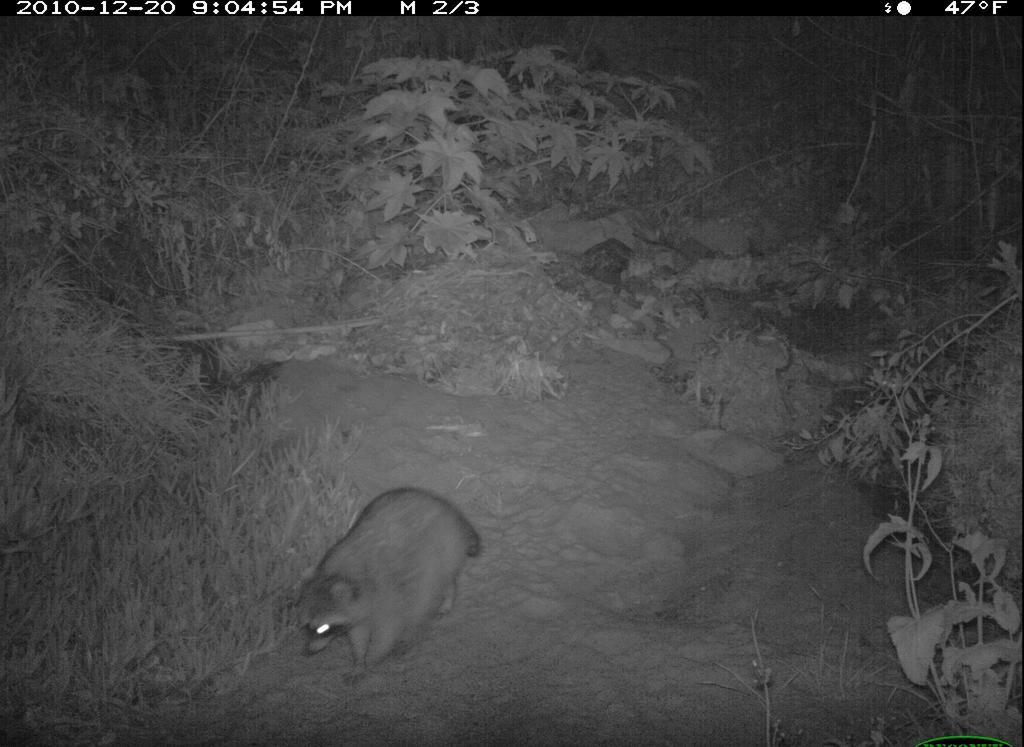raccoon: (291, 487, 489, 692)
